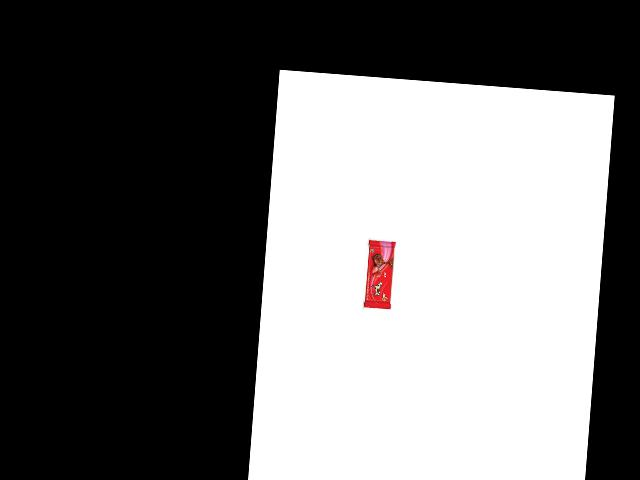chocolate: (358, 239, 395, 314)
